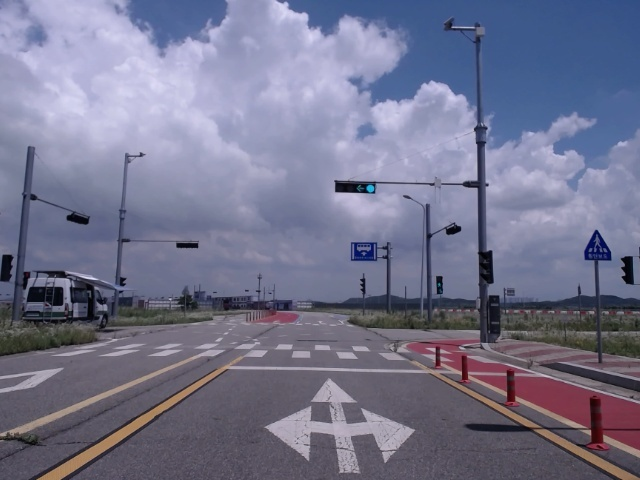all_green_4: (336, 180, 377, 191)
